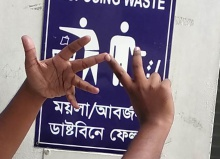u: (19, 31, 141, 124)
